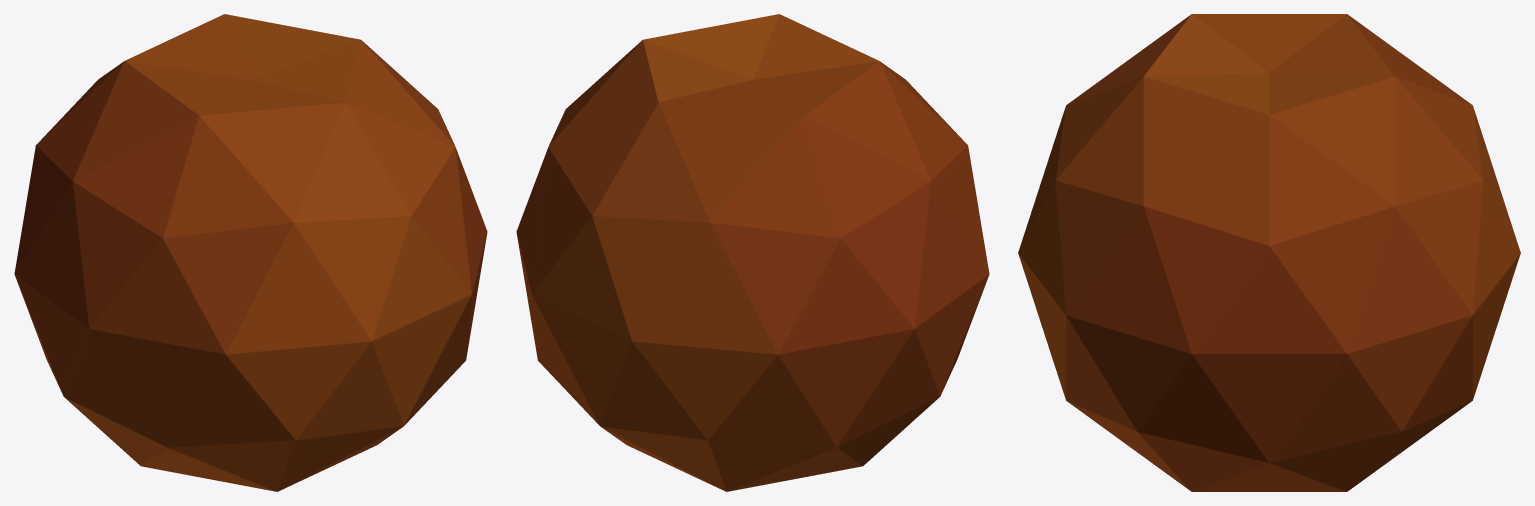
The model's file is Food_Orange.fbx.
The picture shows the model from 3 angles, left to right: view 1: azimuth 30°, elevation 25°; view 2: azimuth 150°, elevation 25°; view 3: azimuth 270°, elevation 25°; orthographic projection. The views are drawn at different scales.
Parts seen in each view (by area): view 1: Food_Orange; view 2: Food_Orange; view 3: Food_Orange.
Boxes of the visible parts, <box> form: Food_Orange: <box>14,14,487,491</box>; Food_Orange: <box>516,14,989,491</box>; Food_Orange: <box>1018,14,1520,491</box>.
Bounding box in the file's own units: 6.3 × 6.13 × 6.62.
